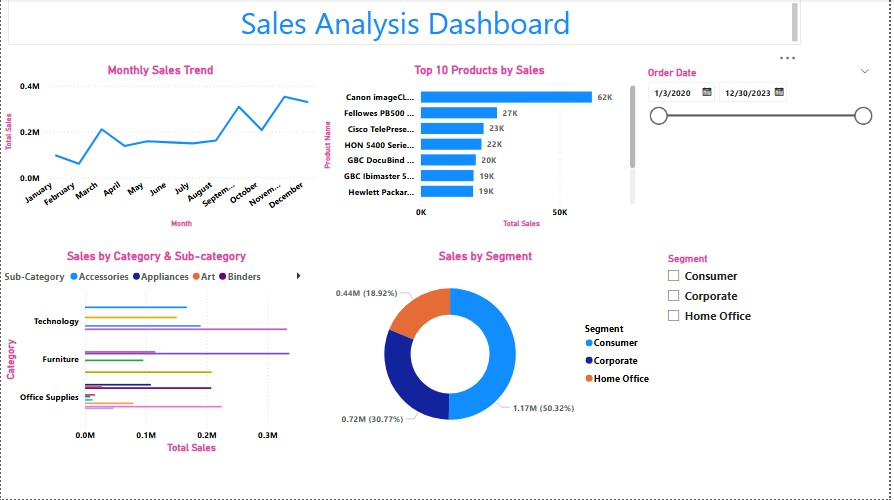

This screenshot's page, from the dashboard's own definition file:
{"tool":"powerbi","page":{"name":"Sales Analysis Dashboard   ","canvas":[1280,720],"ordinal":1},"visuals":[{"type":"textbox","box":[10.1,0,1141.9,66.2],"z":0},{"type":"lineChart","title":"Monthly Sales Trend","fields":{"Category":["Sample - Superstore.Order Date.Variation.Date Hierarchy.Month"],"Y":["Sample - Superstore.Total Sales"]},"box":[0,92.2,459.4,241.9],"z":1},{"type":"clusteredBarChart","title":"Sales by Category & Sub-category","fields":{"Category":["Sample - Superstore.Category"],"Y":["Sample - Superstore.Total Sales"],"Series":["Sample - Superstore.Sub-Category"]},"box":[0,360,447.8,299.5],"z":2},{"type":"barChart","title":"Top 10 Products by Sales","fields":{"Category":["Sample - Superstore.Product Name"],"Y":["Sample - Superstore.Total Sales"]},"box":[459.4,92.2,459.4,241.9],"z":3},{"type":"donutChart","title":"Sales by Segment","fields":{"Category":["Sample - Superstore.Segment"],"Y":["Sample - Superstore.Total Sales"]},"box":[447.8,360,499.7,283.7],"z":4},{"type":"slicer","fields":{"Values":["Sample - Superstore.Order Date"]},"box":[918.7,92.2,344.2,226.1],"z":5},{"type":"slicer","fields":{"Values":["Sample - Superstore.Segment"]},"box":[947.5,360,332.6,283.7],"z":6}]}

Visuals, with their boxes in screenshot pixels (x1, y1, x2, y2), scaled from the page's 1280x720 canvas onto the 894x500 screenshot:
textbox: rect(7, 0, 805, 46)
"Monthly Sales Trend" lineChart: rect(0, 64, 321, 232)
"Sales by Category & Sub-category" clusteredBarChart: rect(0, 250, 313, 458)
"Top 10 Products by Sales" barChart: rect(321, 64, 642, 232)
"Sales by Segment" donutChart: rect(313, 250, 662, 447)
slicer - Sample - Superstore.Order Date: rect(642, 64, 882, 221)
slicer - Sample - Superstore.Segment: rect(662, 250, 893, 447)
